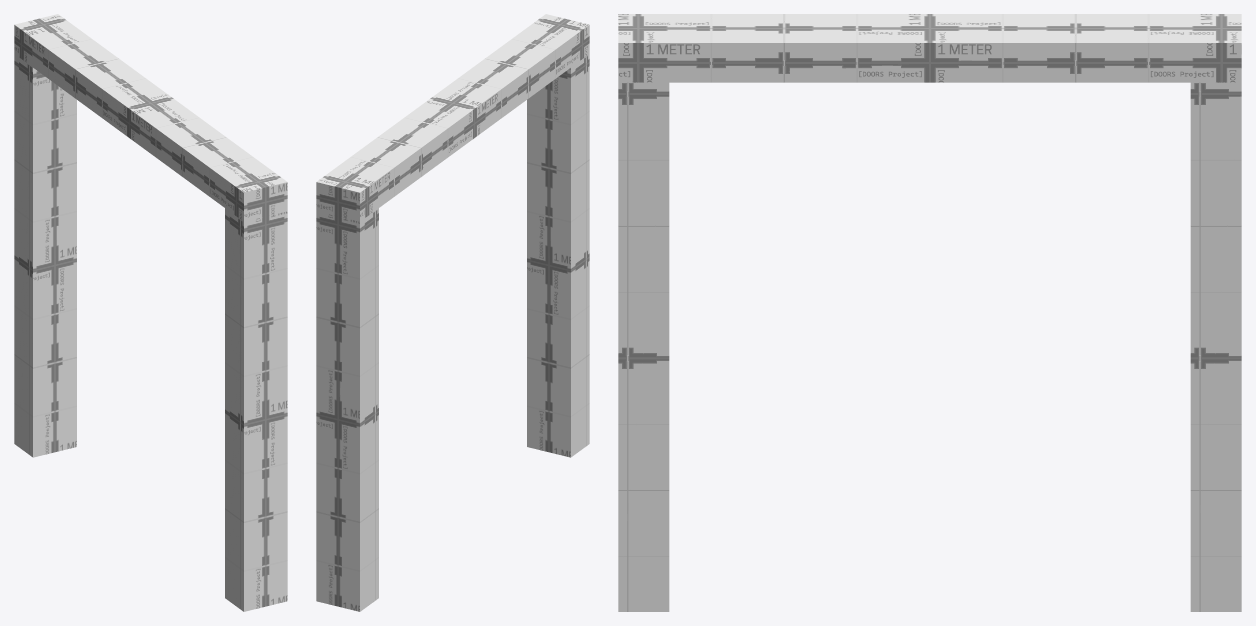
File: DoubleDoorsFrameModel.obj
3 renders of one model, left to right at view 1: azimuth 30°, elevation 25°; view 2: azimuth 150°, elevation 25°; view 3: azimuth 270°, elevation 25°, orthographic. The views are drawn at different scales.
Parts seen in each view (by area): view 1: DoubleDoorsFrame; view 2: DoubleDoorsFrame; view 3: DoubleDoorsFrame.
Part boxes in pixels (box(x1,y1,x2,y2)): DoubleDoorsFrame: box(14, 14, 287, 611); DoubleDoorsFrame: box(316, 14, 589, 611); DoubleDoorsFrame: box(618, 14, 1241, 611).
Size of the model in its own units: 0.2351 by 2.15 by 2.14.
